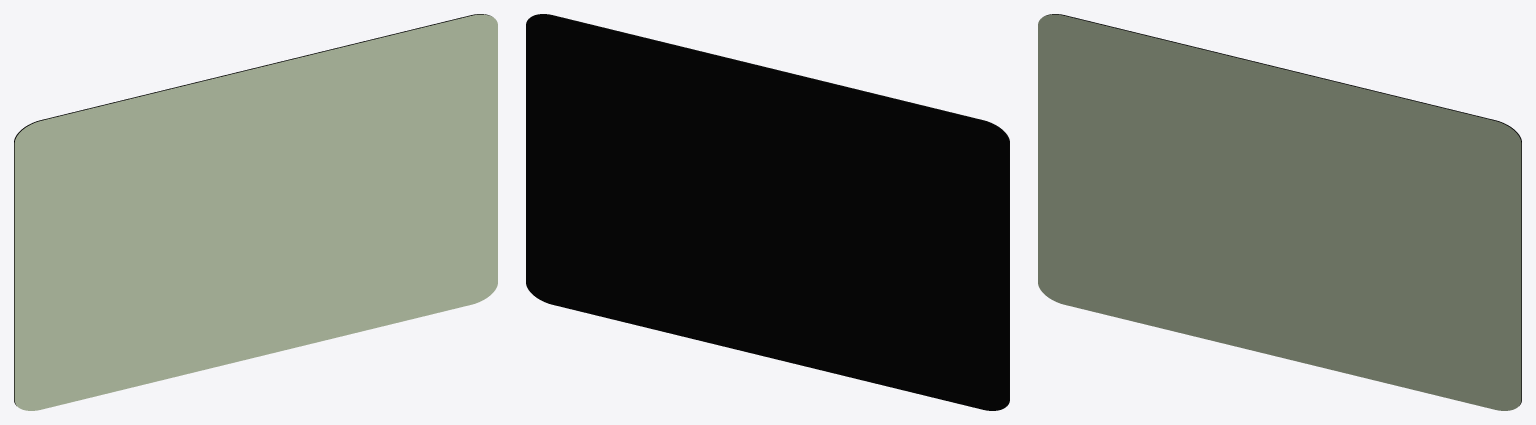
File: Card.fbx
3 views of the same model, side by side, from view 1: azimuth 30°, elevation 25°; view 2: azimuth 150°, elevation 25°; view 3: azimuth 330°, elevation 25° (orthographic).
Visible parts, largest first — view 1: Cube; view 2: Cube; view 3: Cube.
Boxes of the visible parts, x1,y1,x2,y2 form: Cube: (14,14,497,410); Cube: (526,14,1009,410); Cube: (1038,14,1521,410).
Bounding box in the file's own units: 700 × 400 × 2.
